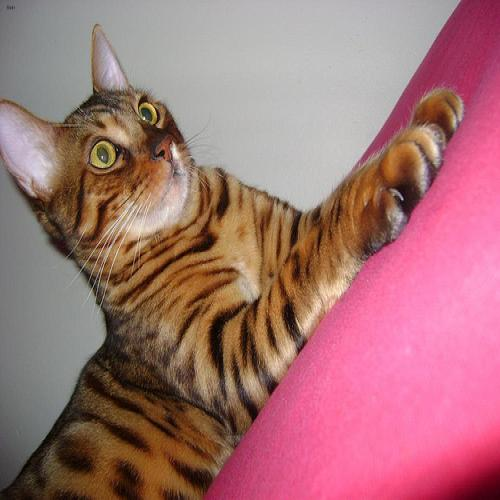cat-face: (1, 23, 203, 251)
